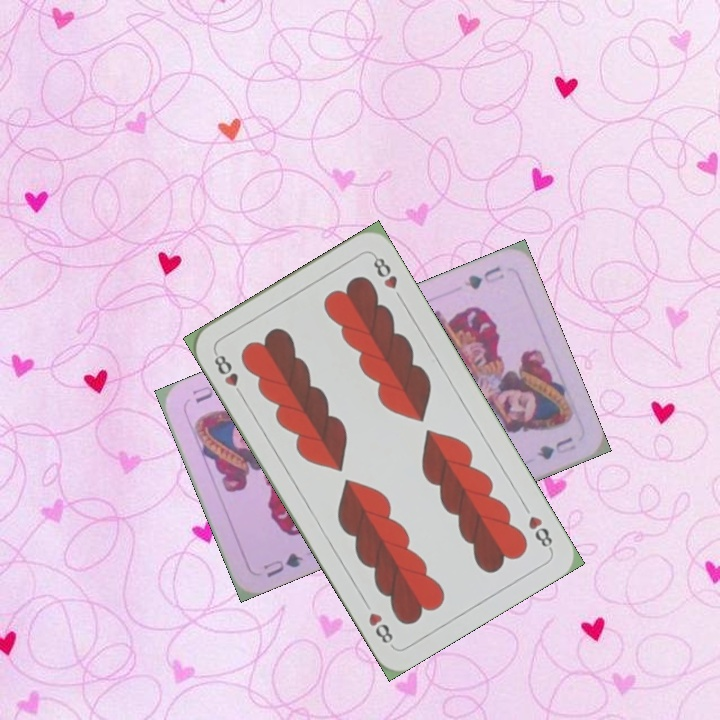GU: (259, 549, 306, 581), (460, 262, 507, 292)
H8: (209, 347, 247, 401), (524, 512, 555, 553)
